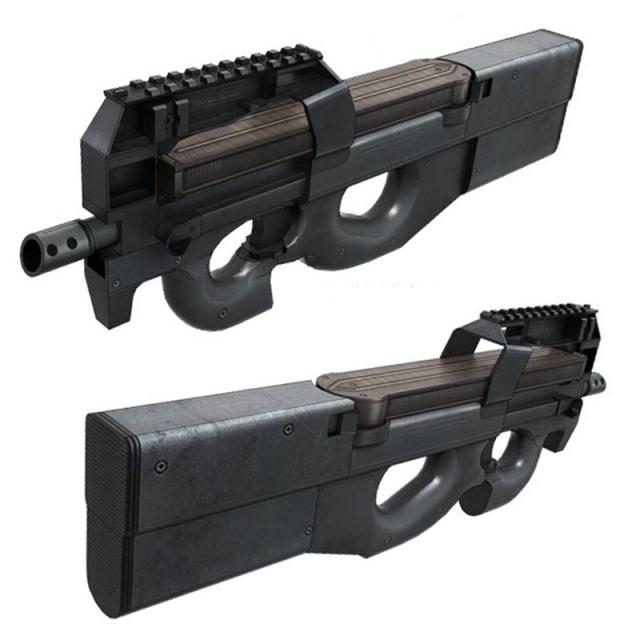SMG: (19, 29, 586, 335), (84, 304, 608, 621)
